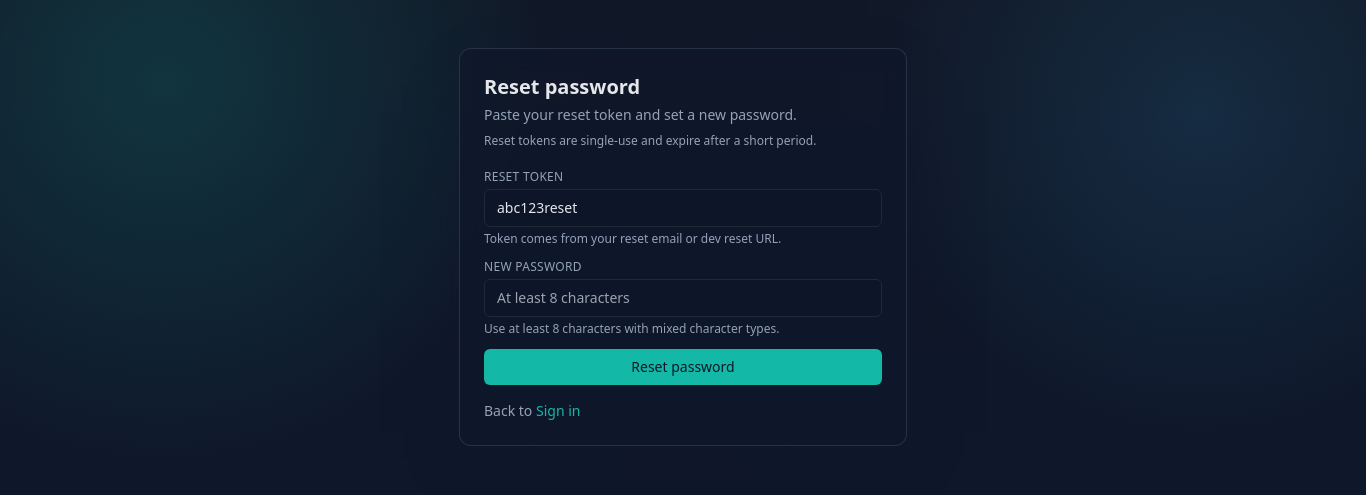
Frontend auth integration › resets password successfully from reset page
Type "NewStrongPass123" into the password field with placeholder "At least 8 characters" at (683, 298), box top-left (484, 279), bottom-right (882, 317)
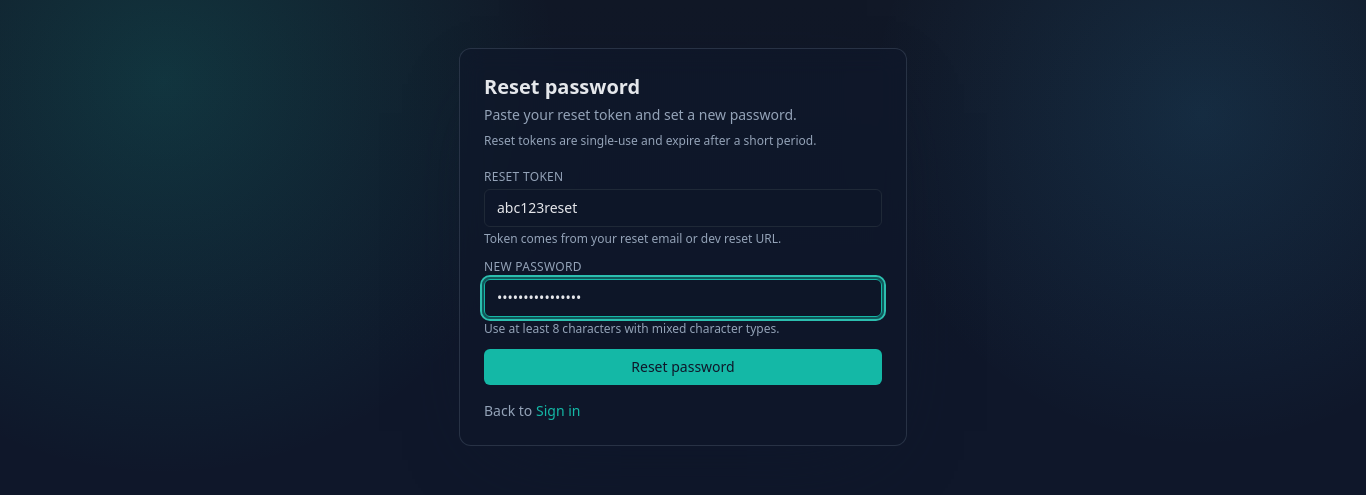
Click the button "Reset password" at (683, 367), box top-left (484, 349), bottom-right (882, 385)
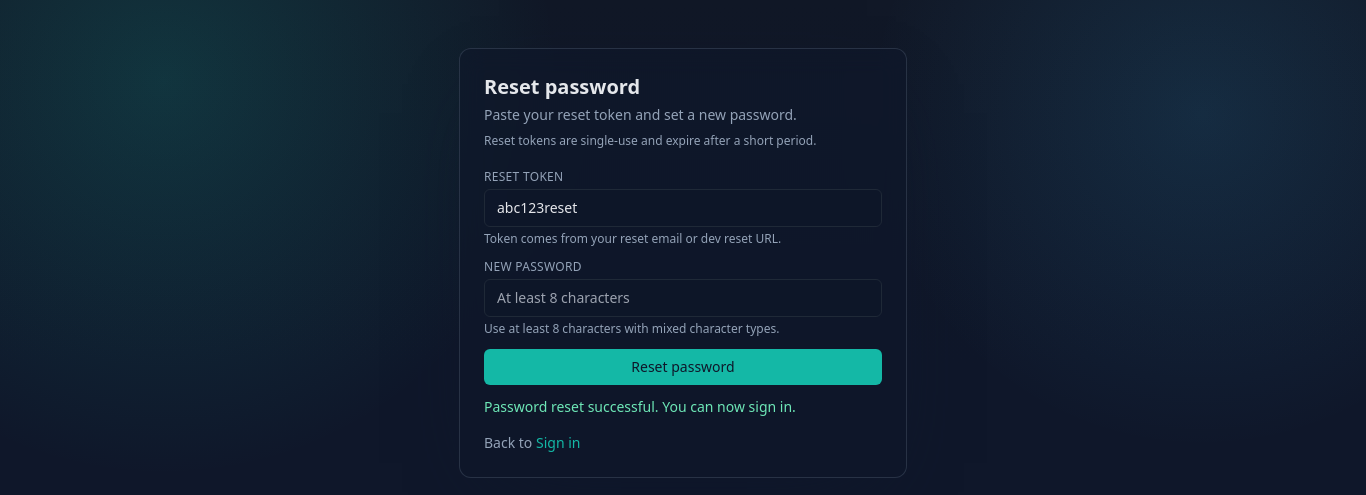
Check: the text "Password reset successful. You can now sign in." is shown, box top-left (484, 397), bottom-right (796, 416)
